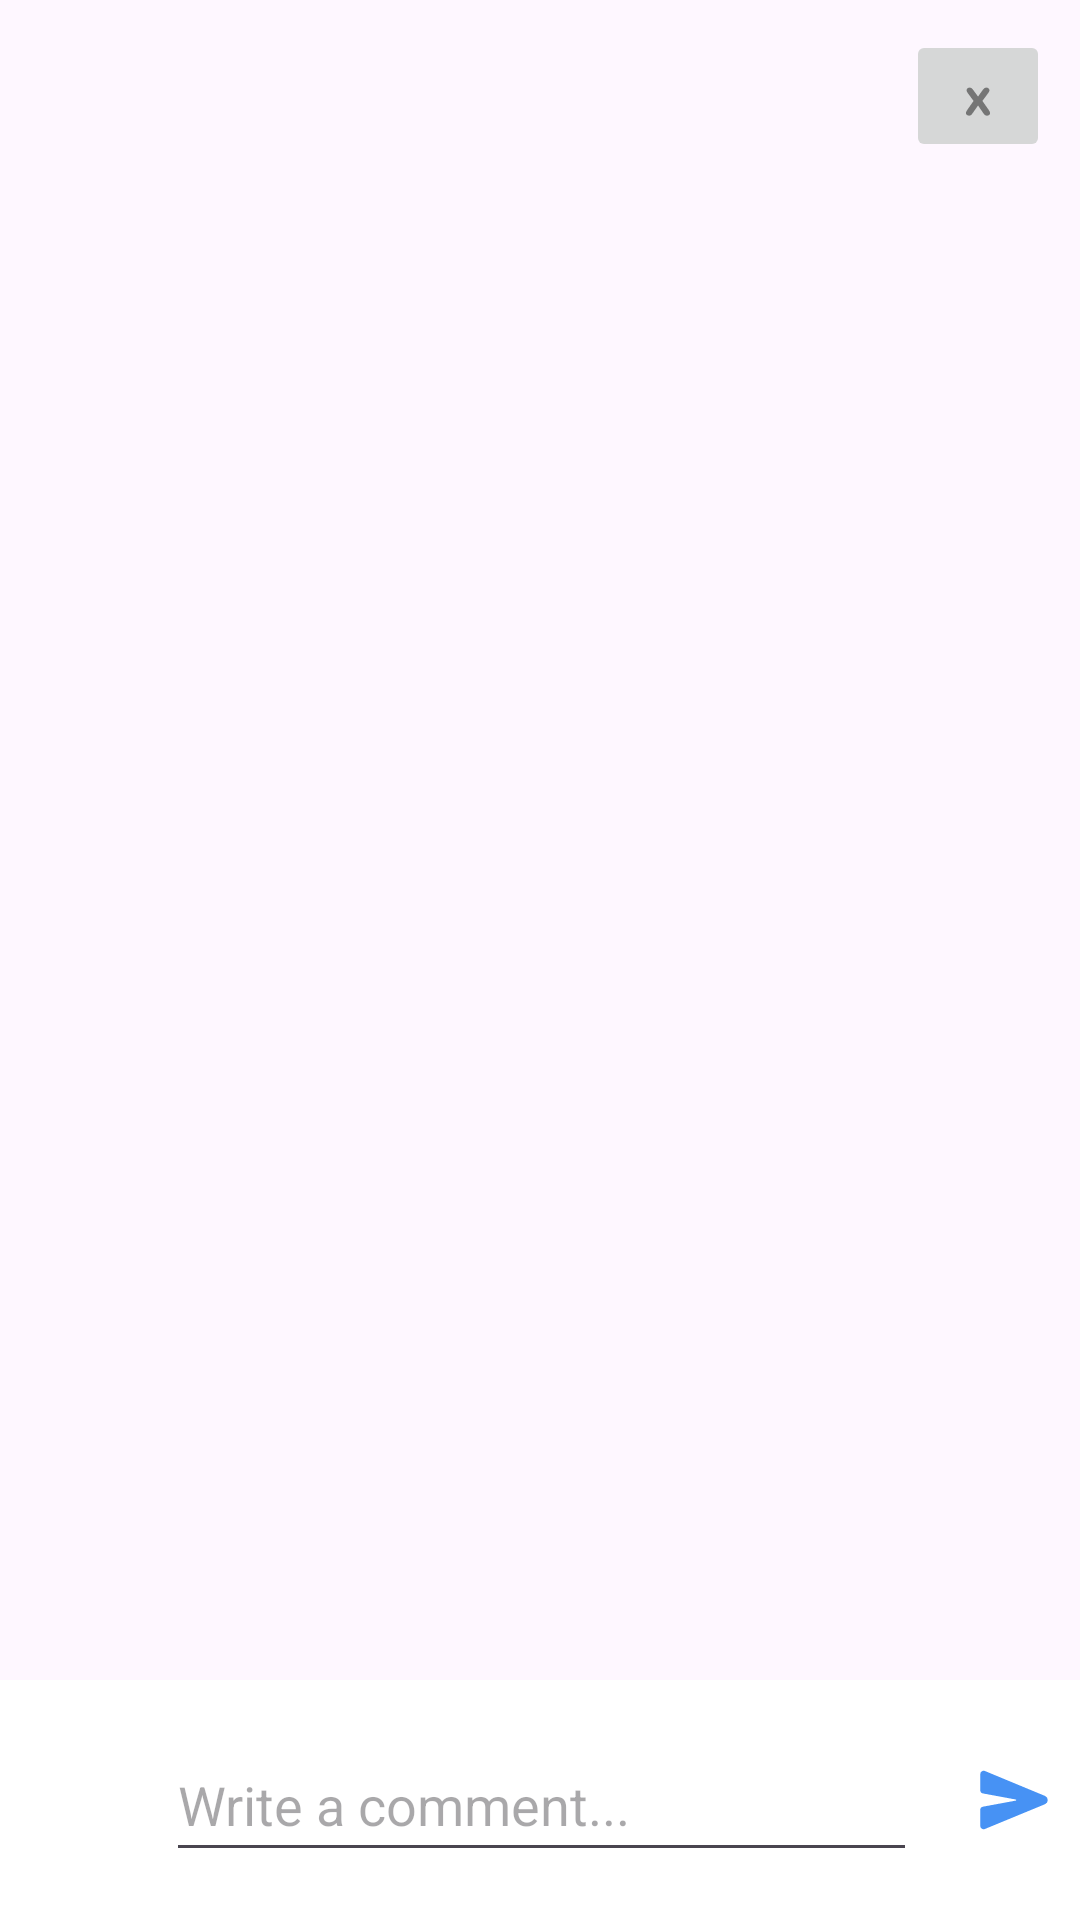

Named icons in this screenshot (1080 × 1920) and their centers, (x=x, y=y):
close tag: (x=978, y=96)
send: (x=1014, y=1800)
